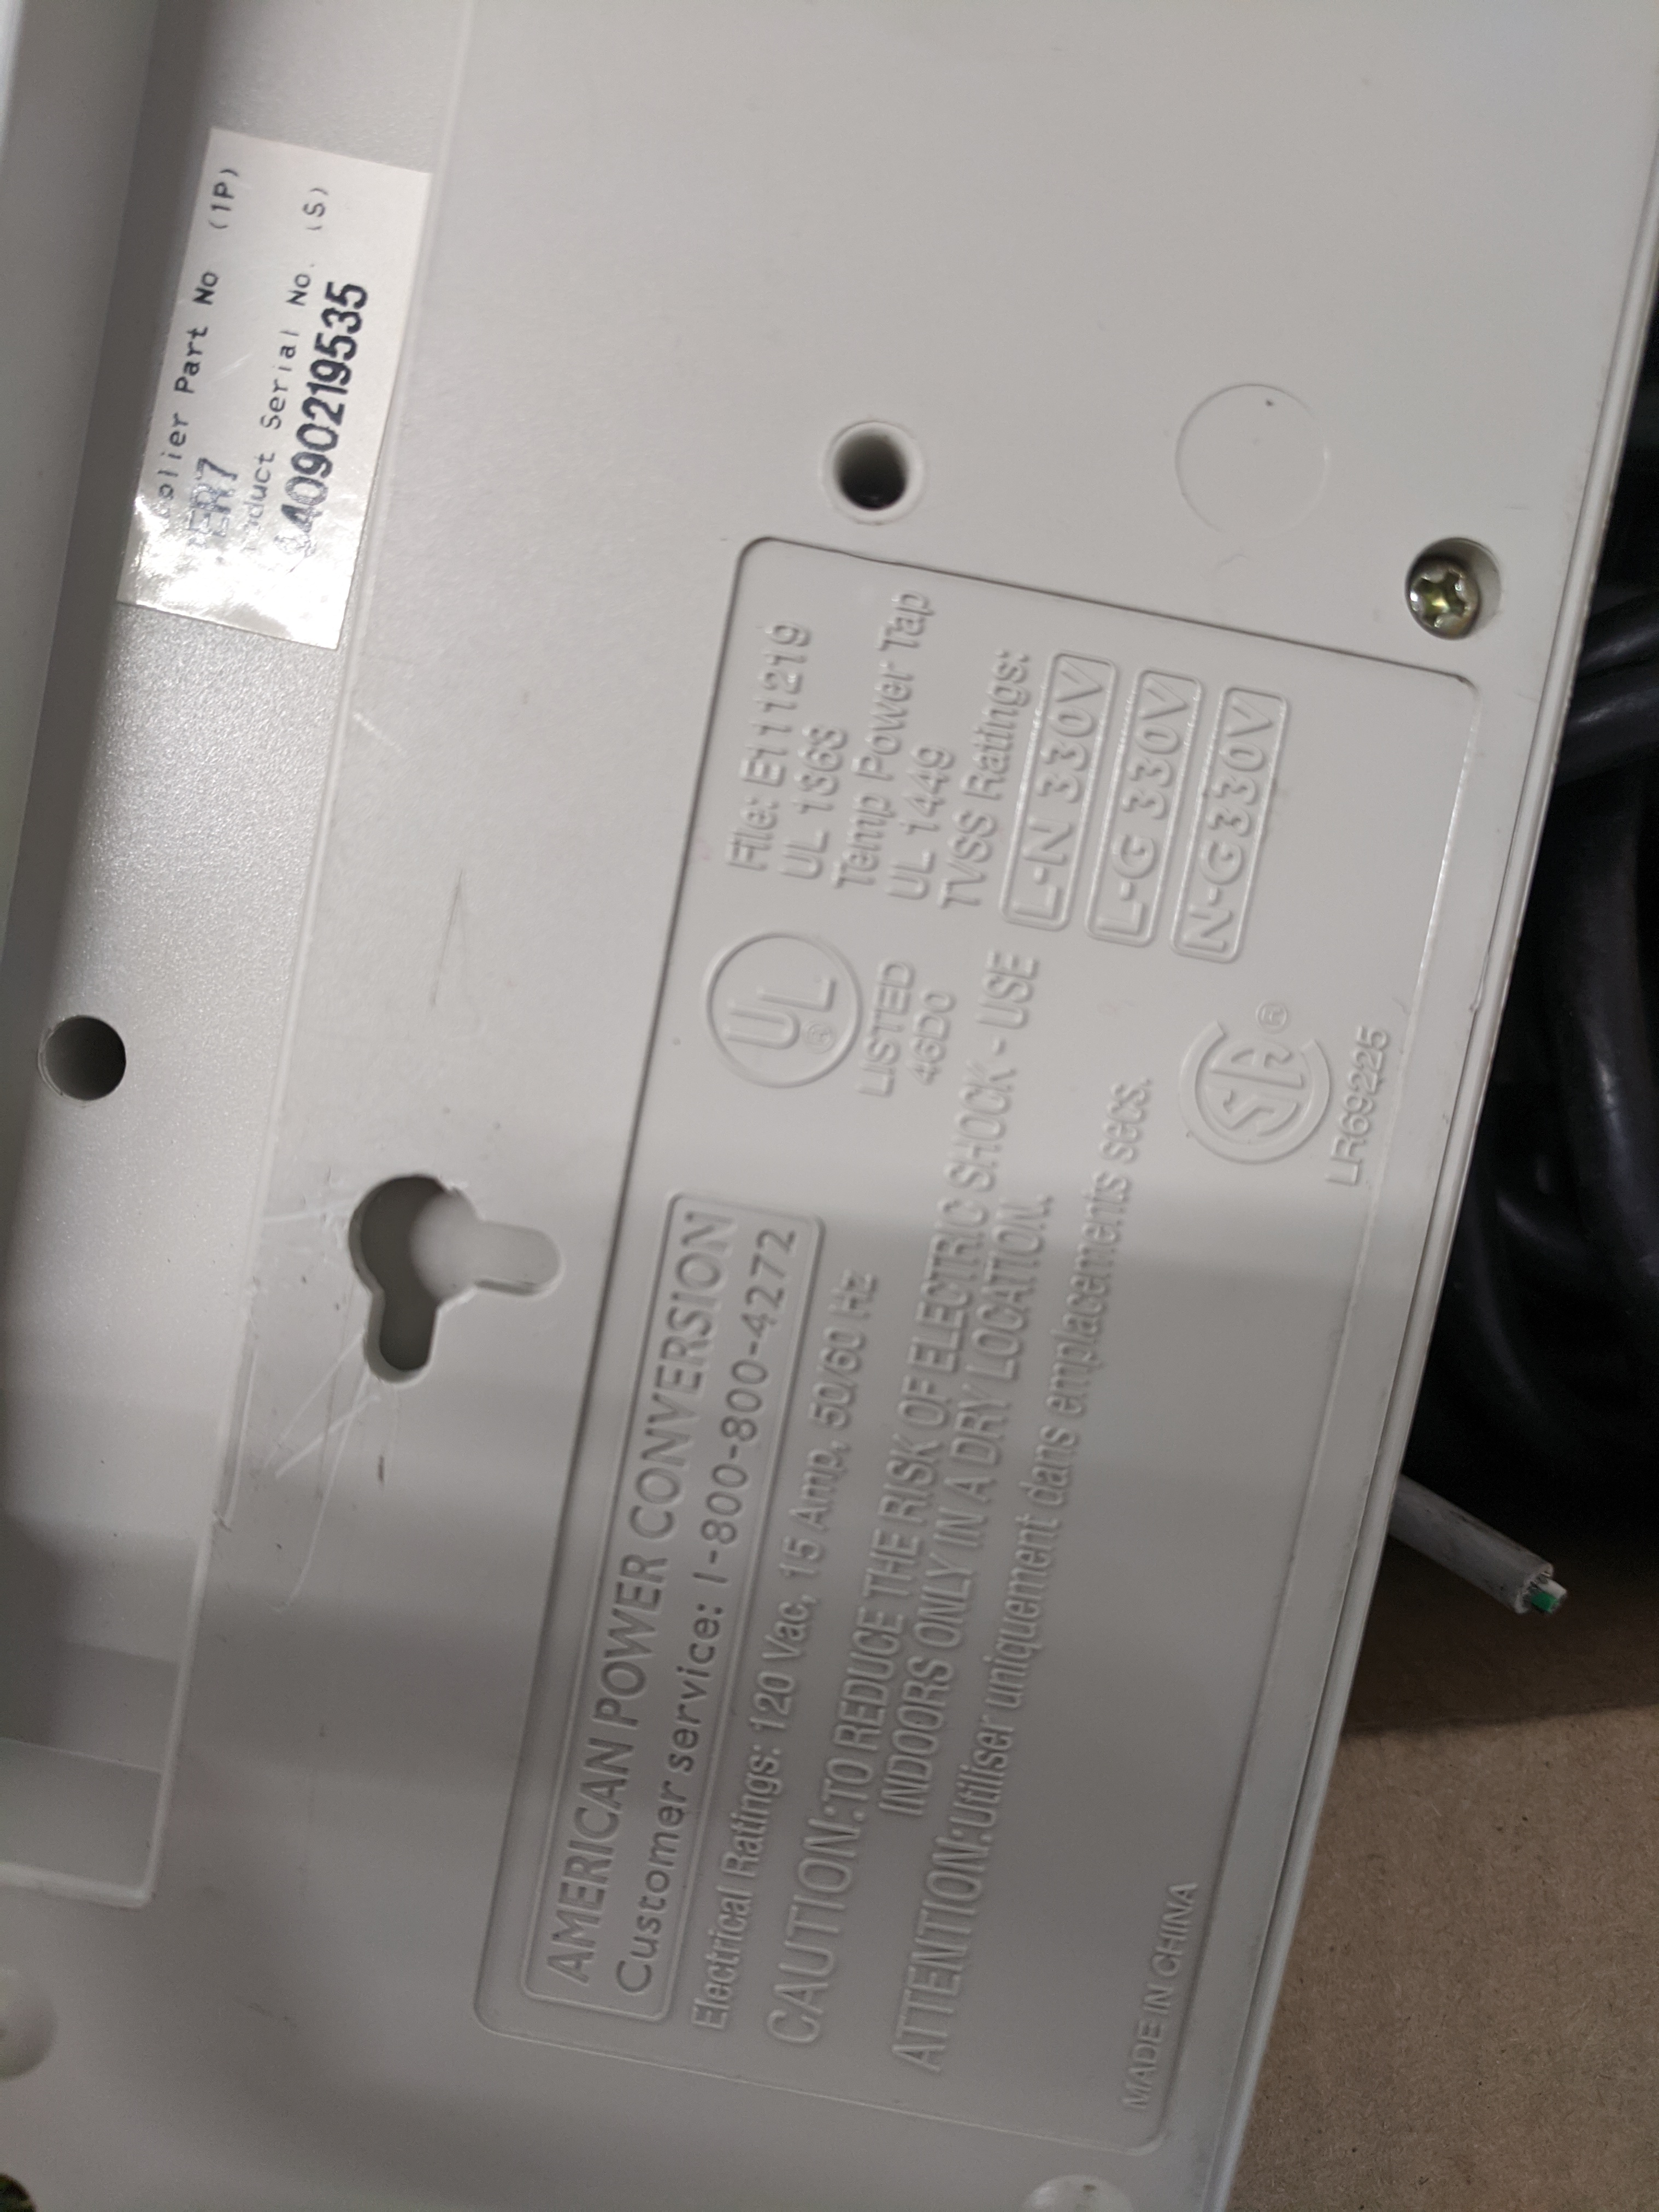cross_recessed_screw: (1391, 523, 1502, 655)
